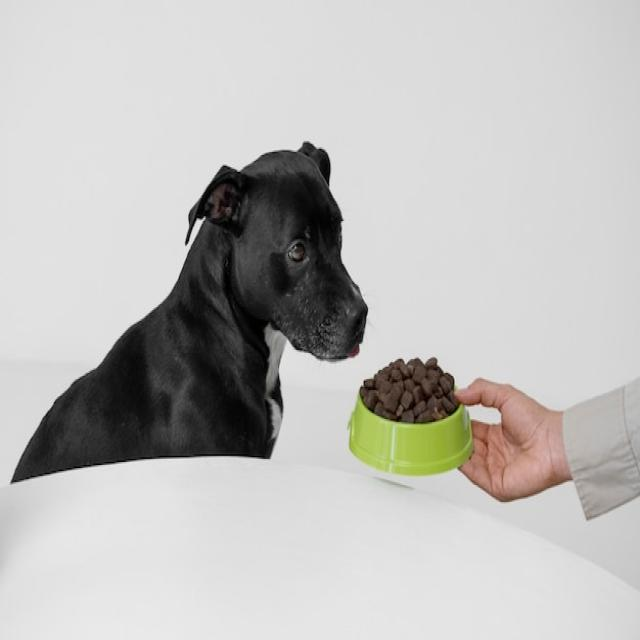Dog: (11, 140, 369, 483)
